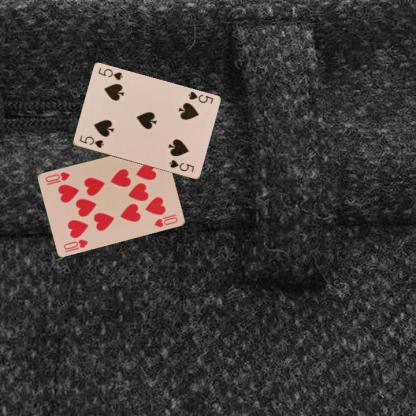10h: (61, 236, 90, 251)
5s: (77, 133, 105, 149), (186, 89, 214, 105)
